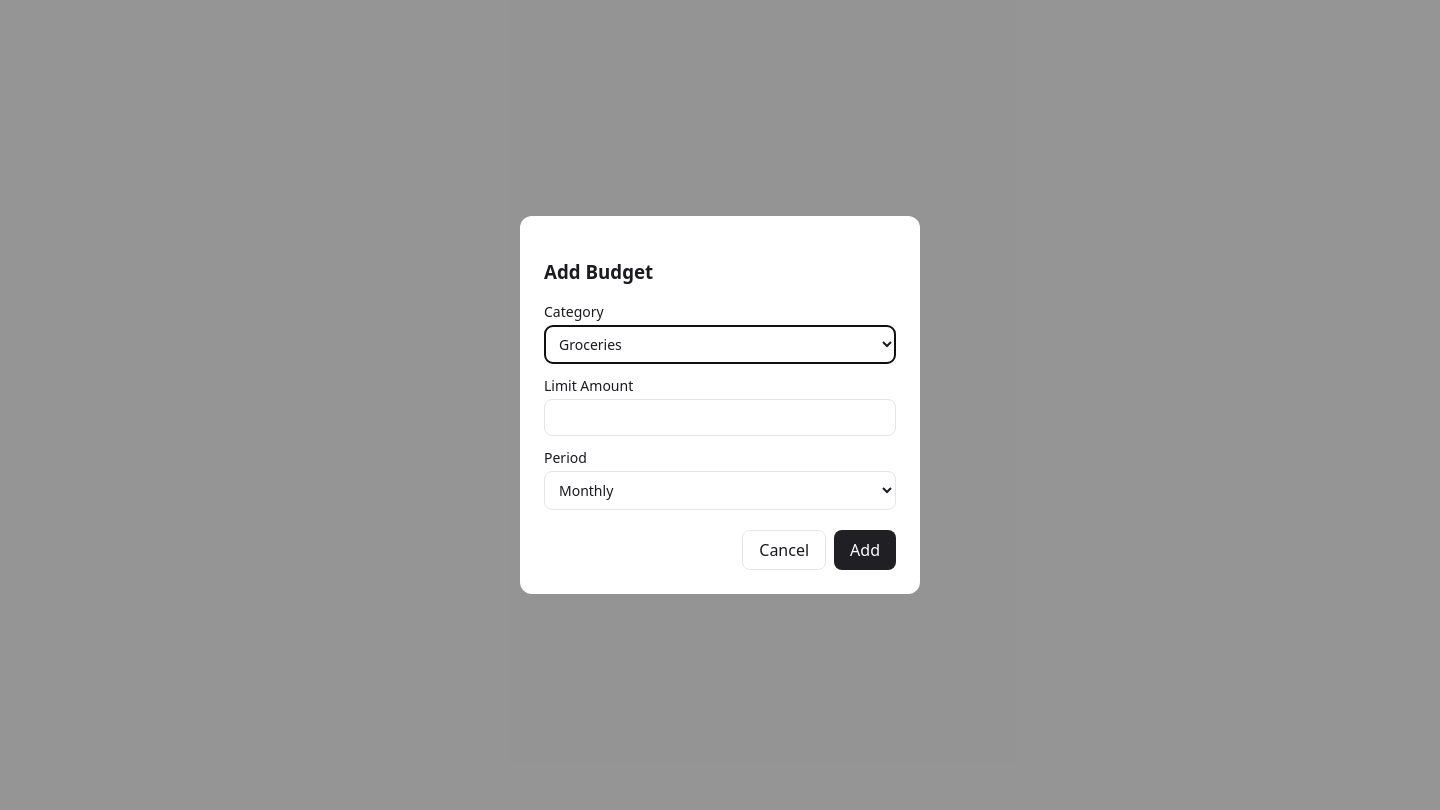
BudgetFormModal › shows a validation error when the limit amount is missing
Click the button "Add".
click(865, 550)  # box top-left (834, 530), bottom-right (896, 570)
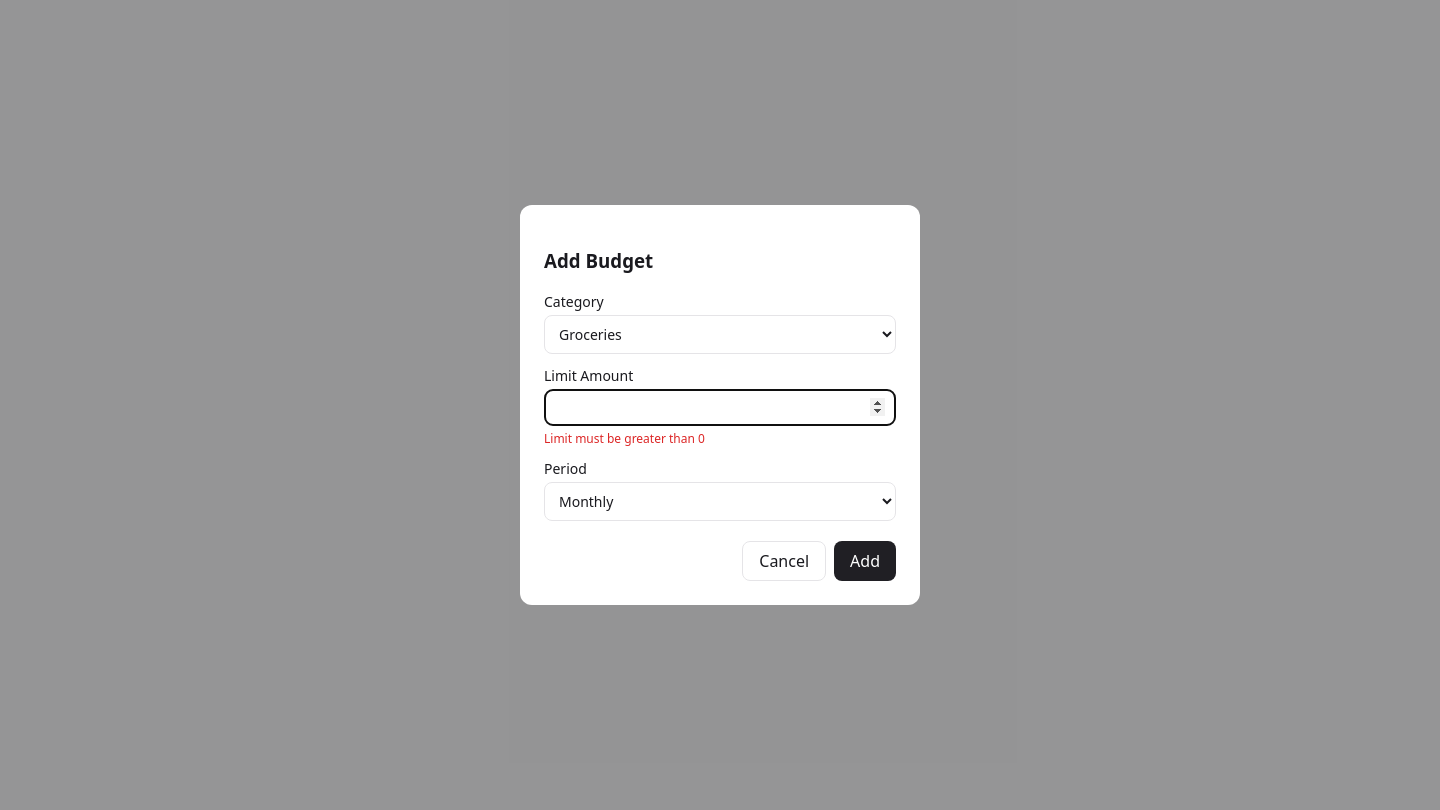
Expected: the text "Limit must be greater than 0" is shown, top-left (544, 430), bottom-right (705, 447)
